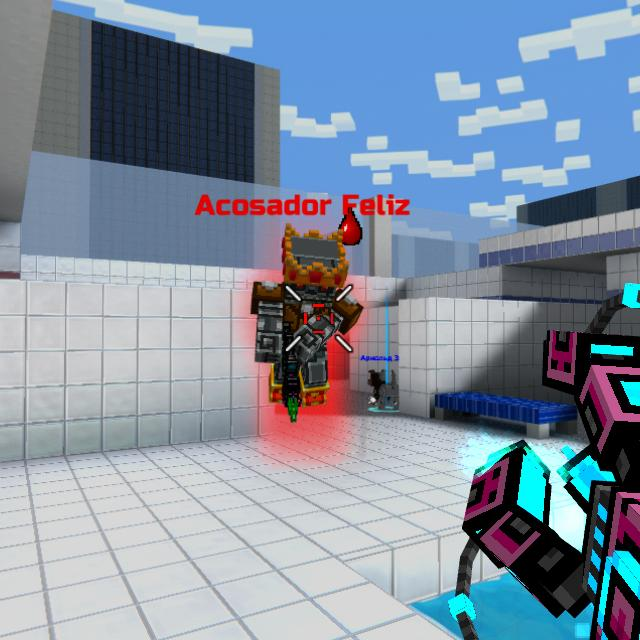Enemy: (249, 234, 362, 420)
